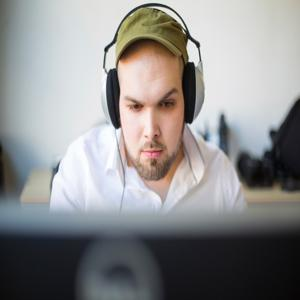Headphones: (101, 1, 206, 129)
